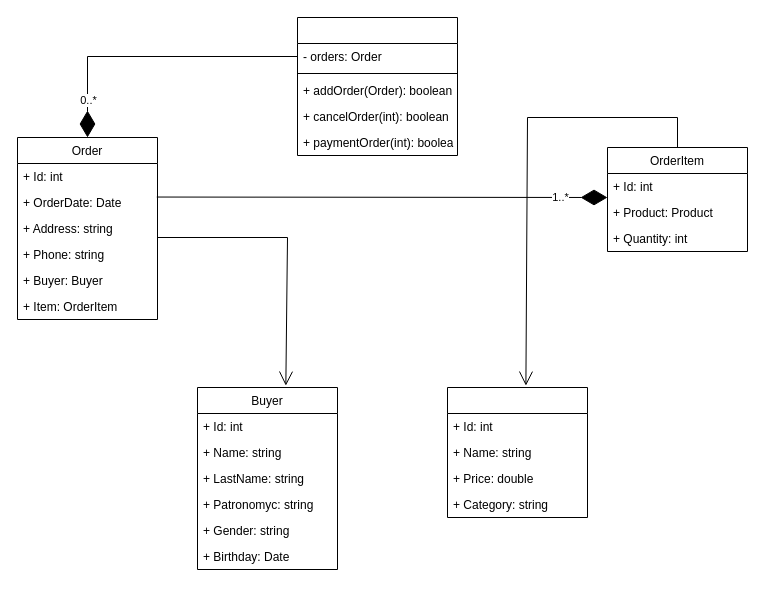
Some shapes in this 765 by 590 pixel diagram are drawn without their labels. The shapes that lost their labels are listed below. From the top down, each one's box as (x1, y1, x2, y2) in pixels, then its label:
(296, 16, 458, 156): Store
(446, 386, 588, 518): Product
